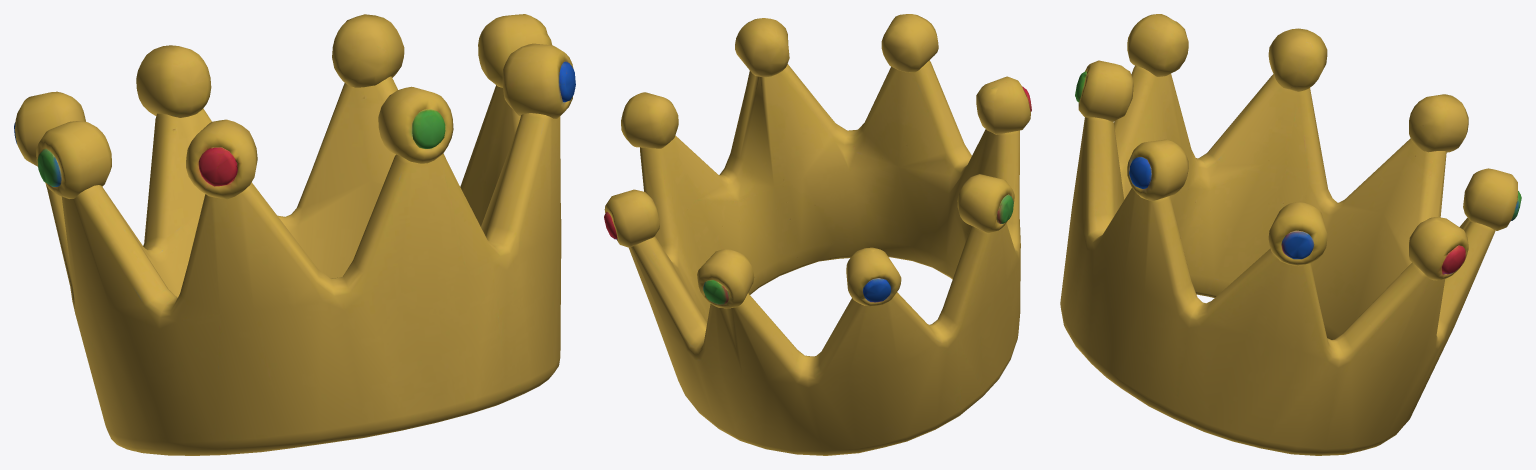
Rendered from optimized_glb.glb.
3 renders of one model, left to right at view 1: azimuth 30°, elevation 25°; view 2: azimuth 150°, elevation 25°; view 3: azimuth 270°, elevation 25°, orthographic. The views are drawn at different scales.
Visible parts, largest first — view 1: crown; view 2: crown; view 3: crown.
Boxes of the visible parts, box(x1,y1,x2,y2) form: crown: box(14, 14, 575, 455); crown: box(604, 14, 1031, 455); crown: box(1060, 14, 1521, 455).
Size of the model in its own units: 0.998 by 0.8262 by 0.9824.
Materials: 1 (1 with a texture image).
